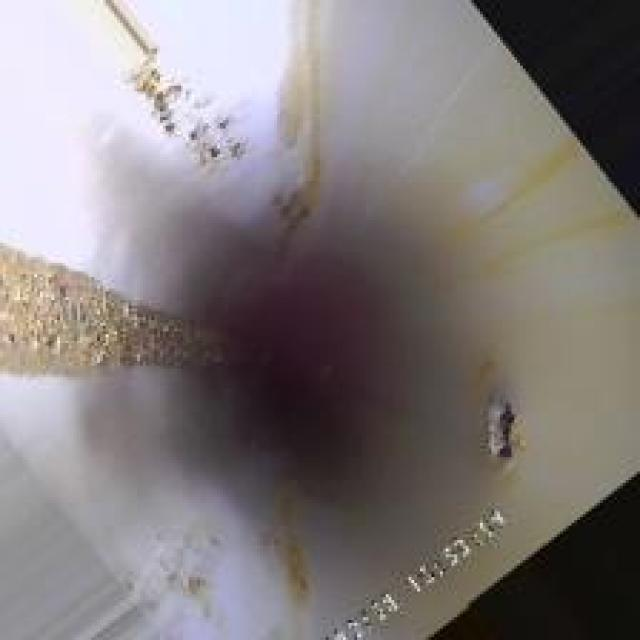ferrule: (468, 386, 523, 466)
